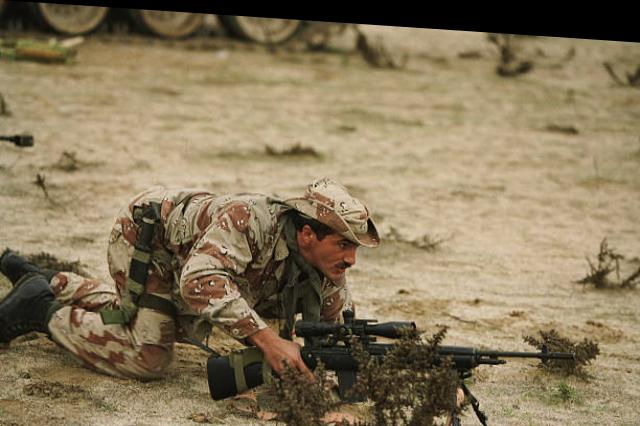other: (100, 174, 376, 386)
